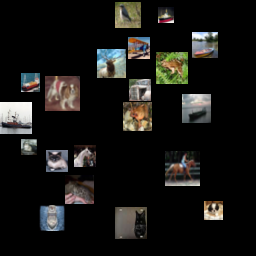airplane: (128, 37, 150, 59)
bird: (115, 2, 141, 28)
cat: (115, 207, 147, 239), (65, 175, 94, 204), (46, 150, 68, 172), (21, 139, 37, 155)
deer: (97, 49, 126, 78)
dog: (45, 76, 80, 111), (204, 201, 223, 220)
frog: (156, 52, 188, 84), (123, 102, 152, 131)
ship: (0, 102, 32, 134), (182, 94, 211, 123), (192, 32, 218, 58), (39, 205, 65, 231), (21, 73, 40, 92), (158, 7, 174, 23)
